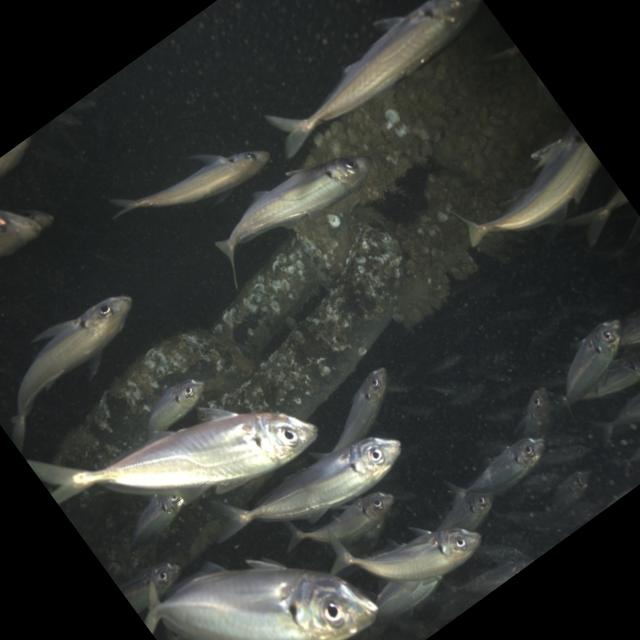ChainLink: (212, 216, 402, 419), (56, 329, 254, 469), (132, 489, 220, 566)
